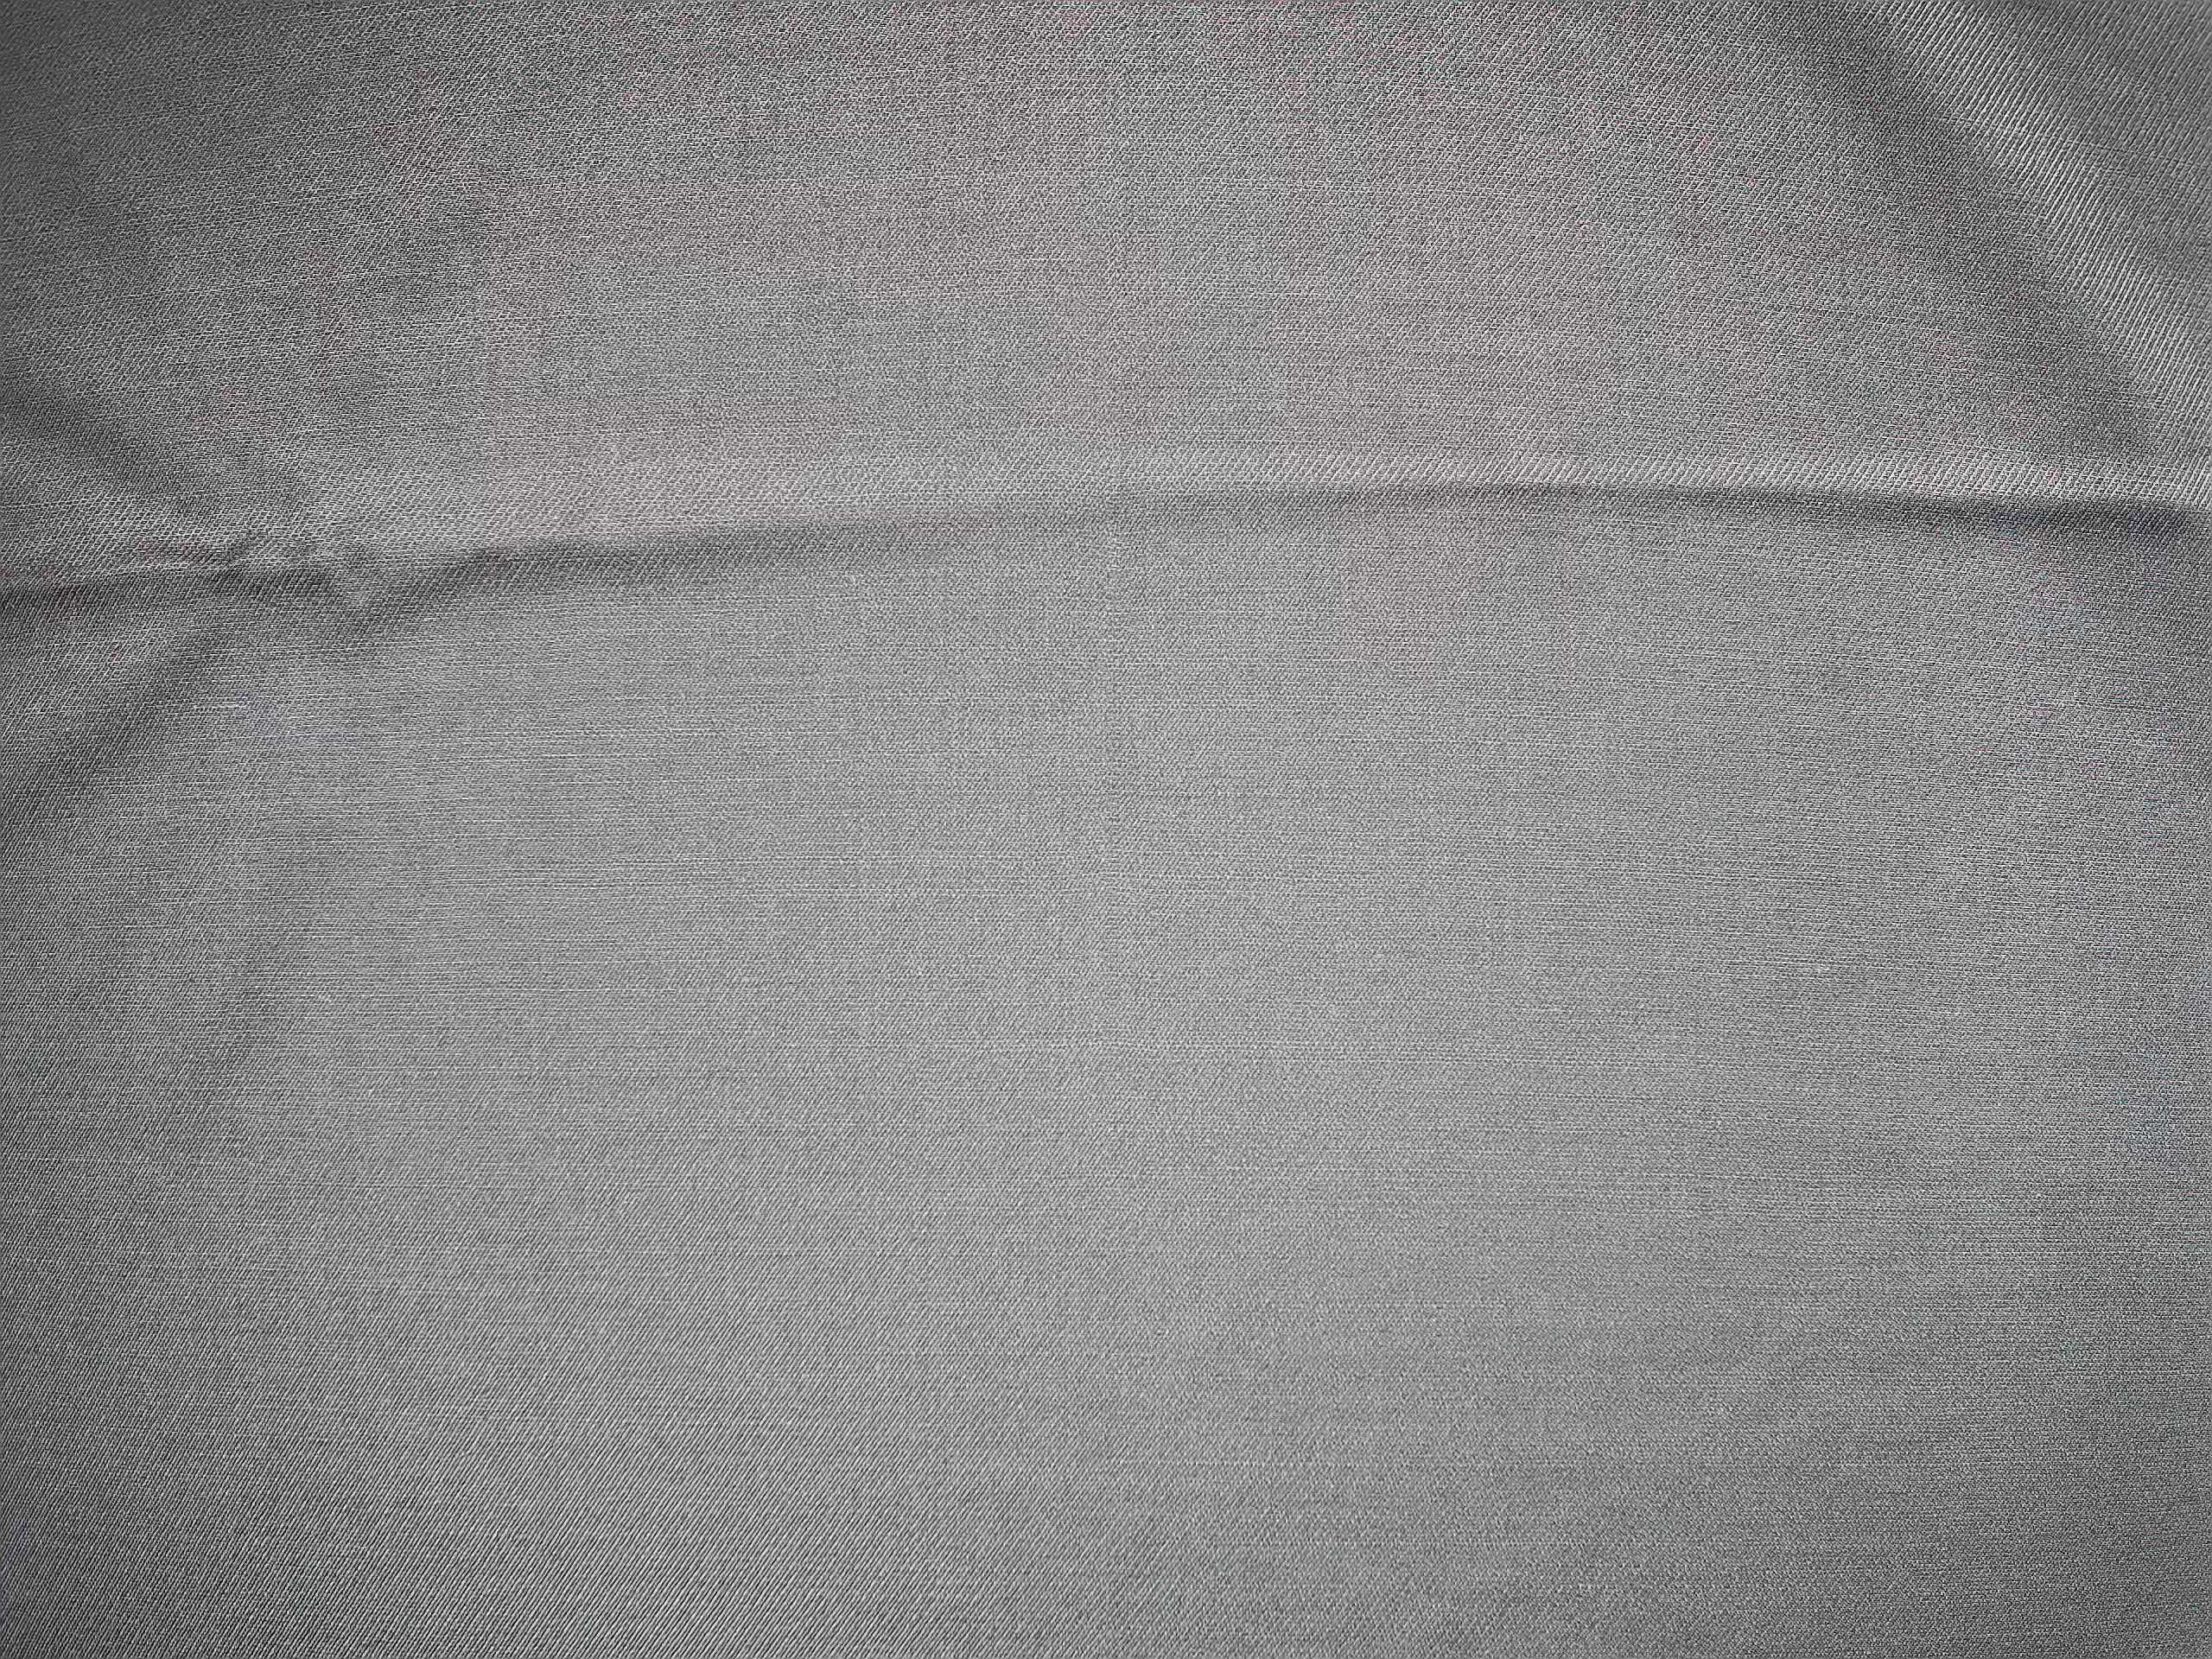hanging-warp: (1094, 213, 1132, 985)
